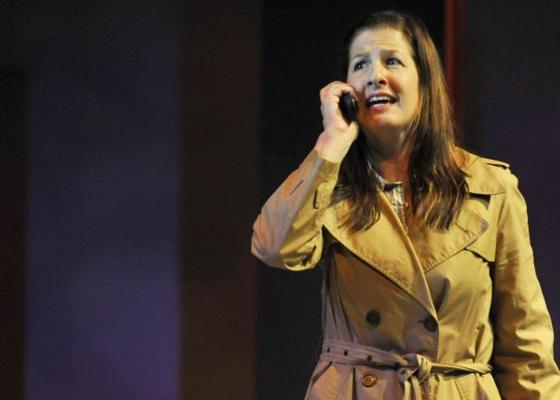person: (247, 11, 558, 399)
